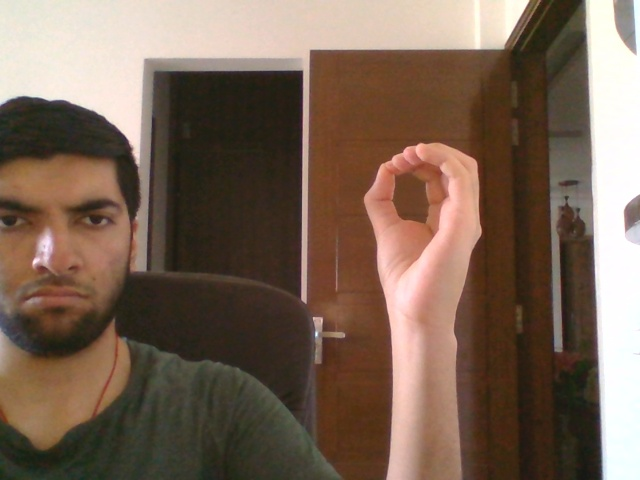LetterO: (363, 141, 483, 327)
